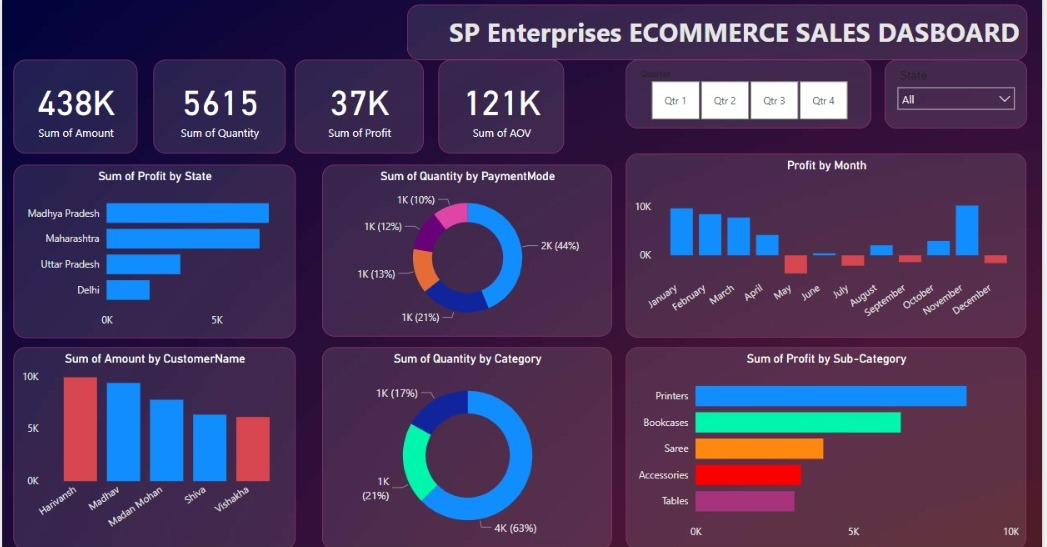

This screenshot's page, from the dashboard's own definition file:
{"tool":"powerbi","page":{"name":"Page 1","canvas":[1280,720],"ordinal":0},"visuals":[{"type":"textbox","box":[607.9,0,672.1,66.1],"z":0},{"type":"columnChart","title":"Profit by Month","fields":{"Y":["Details.Profit"],"Category":["Orders.Order Date.Variation.Date Hierarchy.Month"]},"box":[768.4,196.3,492.7,226.5],"z":1000},{"type":"barChart","fields":{"Category":["Details.Sub-Category"],"Y":["Details.Profit"]},"box":[768.4,436.1,492.7,249.2],"z":2000},{"type":"donutChart","fields":{"Category":["Details.Category"],"Y":["Details.Quantity"]},"box":[394.6,436.1,356.8,249.2],"z":3000},{"type":"donutChart","fields":{"Category":["Details.PaymentMode","Details.Category"],"Y":["Details.Quantity"]},"box":[394.6,211.4,356.8,211.4],"z":4000},{"type":"card","fields":{"Values":["Details.Amount"]},"box":[13.2,81.2,152.9,115.2],"z":4001},{"type":"card","fields":{"Values":["Details.Quantity"]},"box":[186.9,81.2,162.4,115.2],"z":4002},{"type":"card","fields":{"Values":["Details.Profit"]},"box":[360.6,81.2,158.6,115.2],"z":4003},{"type":"card","fields":{"Values":["Details.AOV"]},"box":[536.2,81.2,154.8,115.2],"z":4004},{"type":"barChart","fields":{"Category":["Orders.State"],"Y":["Details.Profit"]},"box":[13.2,211.4,347.4,213.3],"z":4005},{"type":"columnChart","fields":{"Category":["Orders.CustomerName"],"Y":["Details.Amount"]},"box":[13.2,436.1,347.4,249.2],"z":4006},{"type":"slicer","fields":{"Values":["Orders.Order Date.Variation.Date Hierarchy.Quarter"]},"box":[768.4,81.2,302.1,85],"z":4007},{"type":"slicer","fields":{"Values":["Orders.State"]},"box":[1085.5,81.2,175.6,85],"z":4008}]}

Visuals, with their boxes on the page's 1280x720 design canvas (x1, y1, x2, y2). These are canvas units, not pixel positions in the 1047x547 screenshot, which may show the page scaled, cropped or inside an application window:
textbox: 608/0/1280/66
"Profit by Month" columnChart: 768/196/1261/423
barChart - Details.Sub-Category x Details.Profit: 768/436/1261/685
donutChart - Details.Category x Details.Quantity: 395/436/751/685
donutChart - Details.PaymentMode x Details.Category: 395/211/751/423
card - Details.Amount: 13/81/166/196
card - Details.Quantity: 187/81/349/196
card - Details.Profit: 361/81/519/196
card - Details.AOV: 536/81/691/196
barChart - Orders.State x Details.Profit: 13/211/361/425
columnChart - Orders.CustomerName x Details.Amount: 13/436/361/685
slicer - Orders.Order Date.Variation.Date Hierarchy.Quarter: 768/81/1070/166
slicer - Orders.State: 1086/81/1261/166
